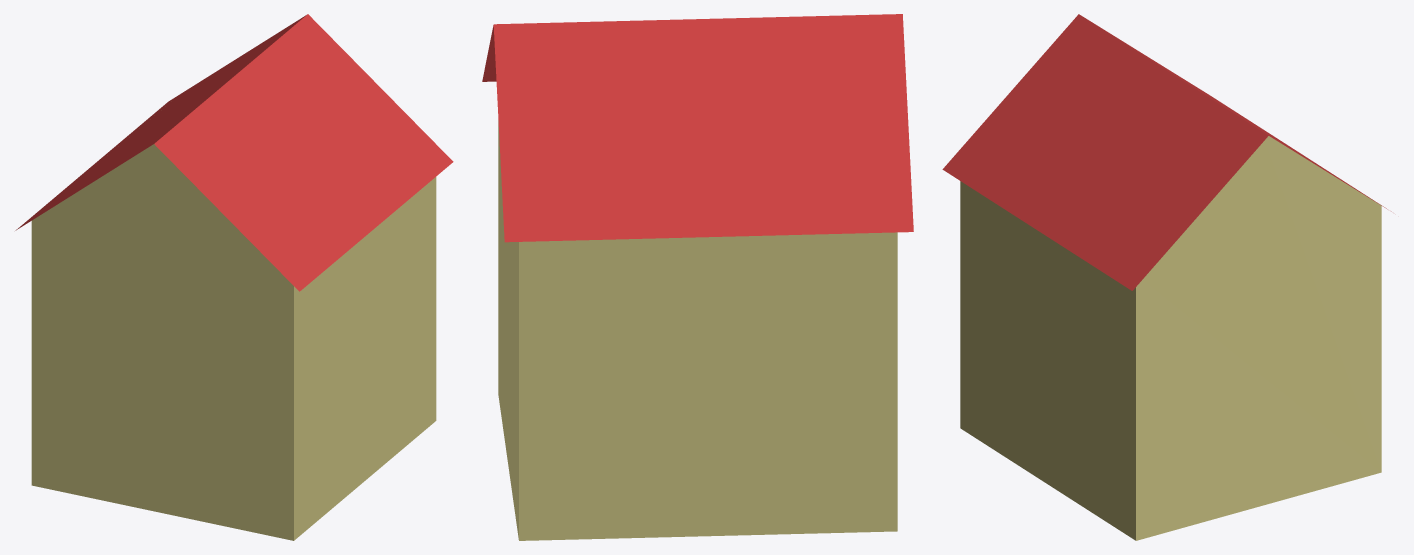
The picture shows the model from 3 angles, left to right: view 1: azimuth 30°, elevation 25°; view 2: azimuth 150°, elevation 25°; view 3: azimuth 270°, elevation 25°; orthographic projection. The views are drawn at different scales.
Bounding box in the file's own units: 9.06 × 8.92 × 8.07.
